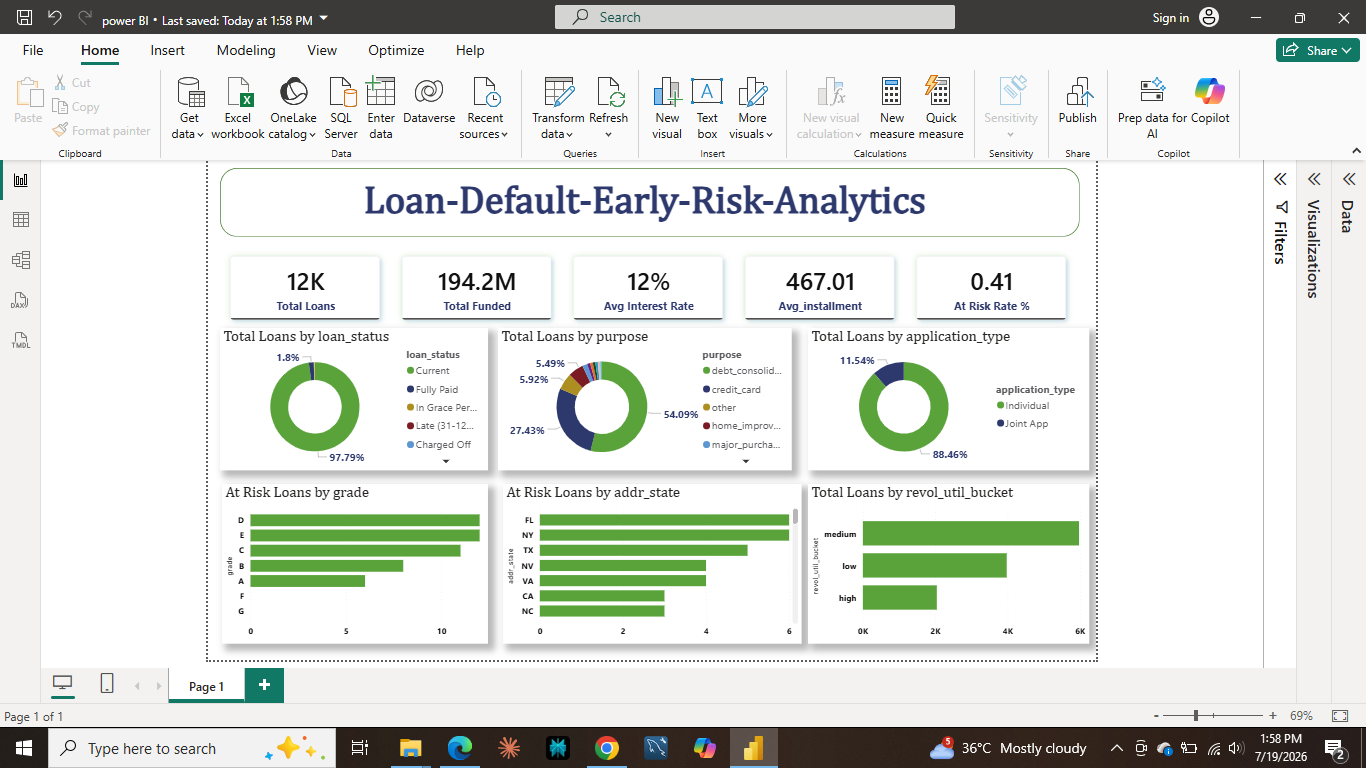

The page's visual inventory and layout, read from the dashboard file:
{"tool":"powerbi","page":{"name":"Page 1","canvas":[1280,720],"ordinal":0},"visuals":[{"type":"cardVisual","fields":{"Data":["DAX.Total Loans","DAX.Total Funded","DAX.Avg Interest Rate","DAX.Avg_installment","DAX.At Risk Rate %"]},"box":[5,110.9,1263.2,147.8],"z":0},{"type":"shape","box":[16.8,11.8,1238,99.1],"z":1},{"type":"textbox","box":[35.3,21.8,1189.3,77.3],"z":2},{"type":"donutChart","fields":{"Y":["DAX.Total Loans"],"Category":["Query1.loan_status"]},"box":[16.8,241.9,386.4,204.9],"z":3},{"type":"donutChart","fields":{"Y":["DAX.Total Loans"],"Category":["Query1.purpose"]},"box":[418.3,241.9,423.3,204.9],"z":4},{"type":"donutChart","fields":{"Y":["DAX.Total Loans"],"Category":["Query1.application_type"]},"box":[863.4,241.9,404.8,204.9],"z":5},{"type":"clusteredBarChart","fields":{"Y":["DAX.At Risk Loans"],"Category":["Query1.grade"]},"box":[20.2,467,383,230.1],"z":6},{"type":"clusteredBarChart","fields":{"Y":["DAX.At Risk Loans"],"Category":["Query1.addr_state"]},"box":[425,467,430,230.1],"z":7},{"type":"clusteredBarChart","fields":{"Category":["Query1.revol_util_bucket"],"Y":["DAX.Total Loans"]},"box":[864,466.6,404.6,230.4],"z":8}]}

Visuals, with their boxes on the page's 1280x720 design canvas (x1, y1, x2, y2). These are canvas units, not pixel positions in the 1366x768 screenshot, which may show the page scaled, cropped or inside an application window:
cardVisual - DAX.Total Loans x DAX.Total Funded: box(5, 111, 1268, 259)
shape: box(17, 12, 1255, 111)
textbox: box(35, 22, 1225, 99)
donutChart - DAX.Total Loans x Query1.loan_status: box(17, 242, 403, 447)
donutChart - DAX.Total Loans x Query1.purpose: box(418, 242, 842, 447)
donutChart - DAX.Total Loans x Query1.application_type: box(863, 242, 1268, 447)
clusteredBarChart - DAX.At Risk Loans x Query1.grade: box(20, 467, 403, 697)
clusteredBarChart - DAX.At Risk Loans x Query1.addr_state: box(425, 467, 855, 697)
clusteredBarChart - Query1.revol_util_bucket x DAX.Total Loans: box(864, 467, 1269, 697)
